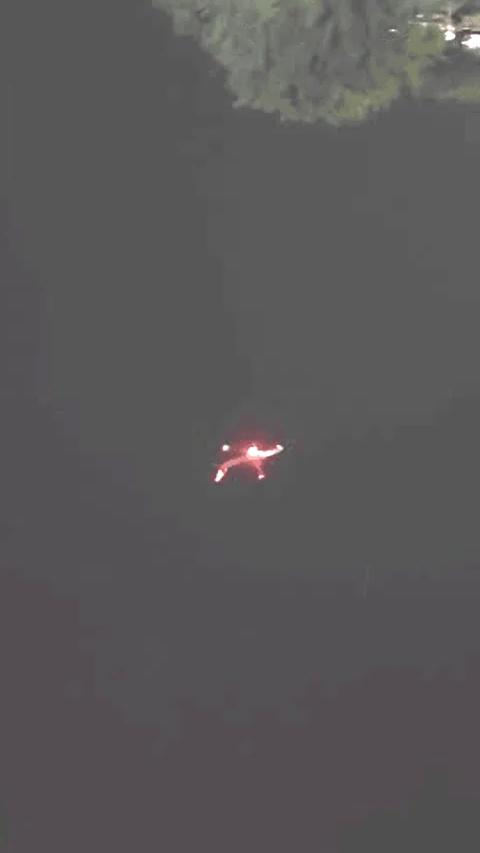Plane: (181, 386, 315, 524)
